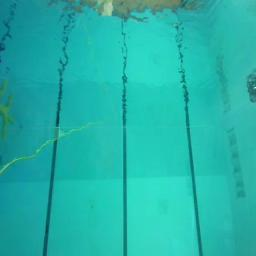Full: (247, 86, 256, 101)
